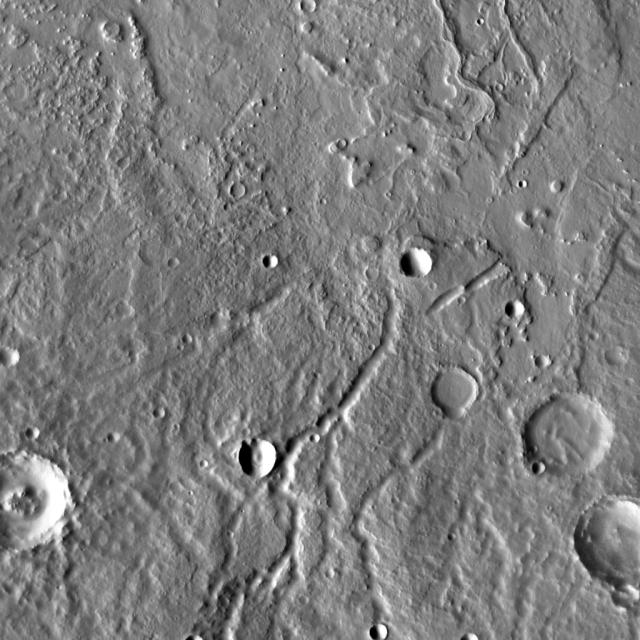crater: (522, 392, 612, 478), (0, 451, 69, 548), (575, 494, 640, 585), (431, 367, 480, 414), (239, 438, 279, 476), (401, 248, 433, 278), (613, 581, 640, 608), (0, 346, 20, 366), (505, 300, 525, 319), (370, 625, 388, 640), (231, 182, 247, 198), (535, 353, 551, 368), (608, 352, 624, 366), (264, 254, 279, 268), (27, 424, 41, 438), (302, 0, 317, 11), (552, 181, 564, 193), (119, 156, 131, 168), (367, 266, 379, 278), (111, 432, 123, 442), (535, 462, 547, 472), (155, 408, 166, 418), (311, 434, 321, 444), (173, 259, 182, 269), (326, 568, 335, 578), (300, 596, 310, 605), (448, 532, 458, 540), (185, 335, 194, 343), (520, 180, 528, 188), (496, 83, 504, 91), (338, 138, 346, 146), (200, 458, 208, 466), (362, 336, 370, 344), (459, 296, 467, 304), (424, 274, 431, 282), (472, 11, 478, 17)
